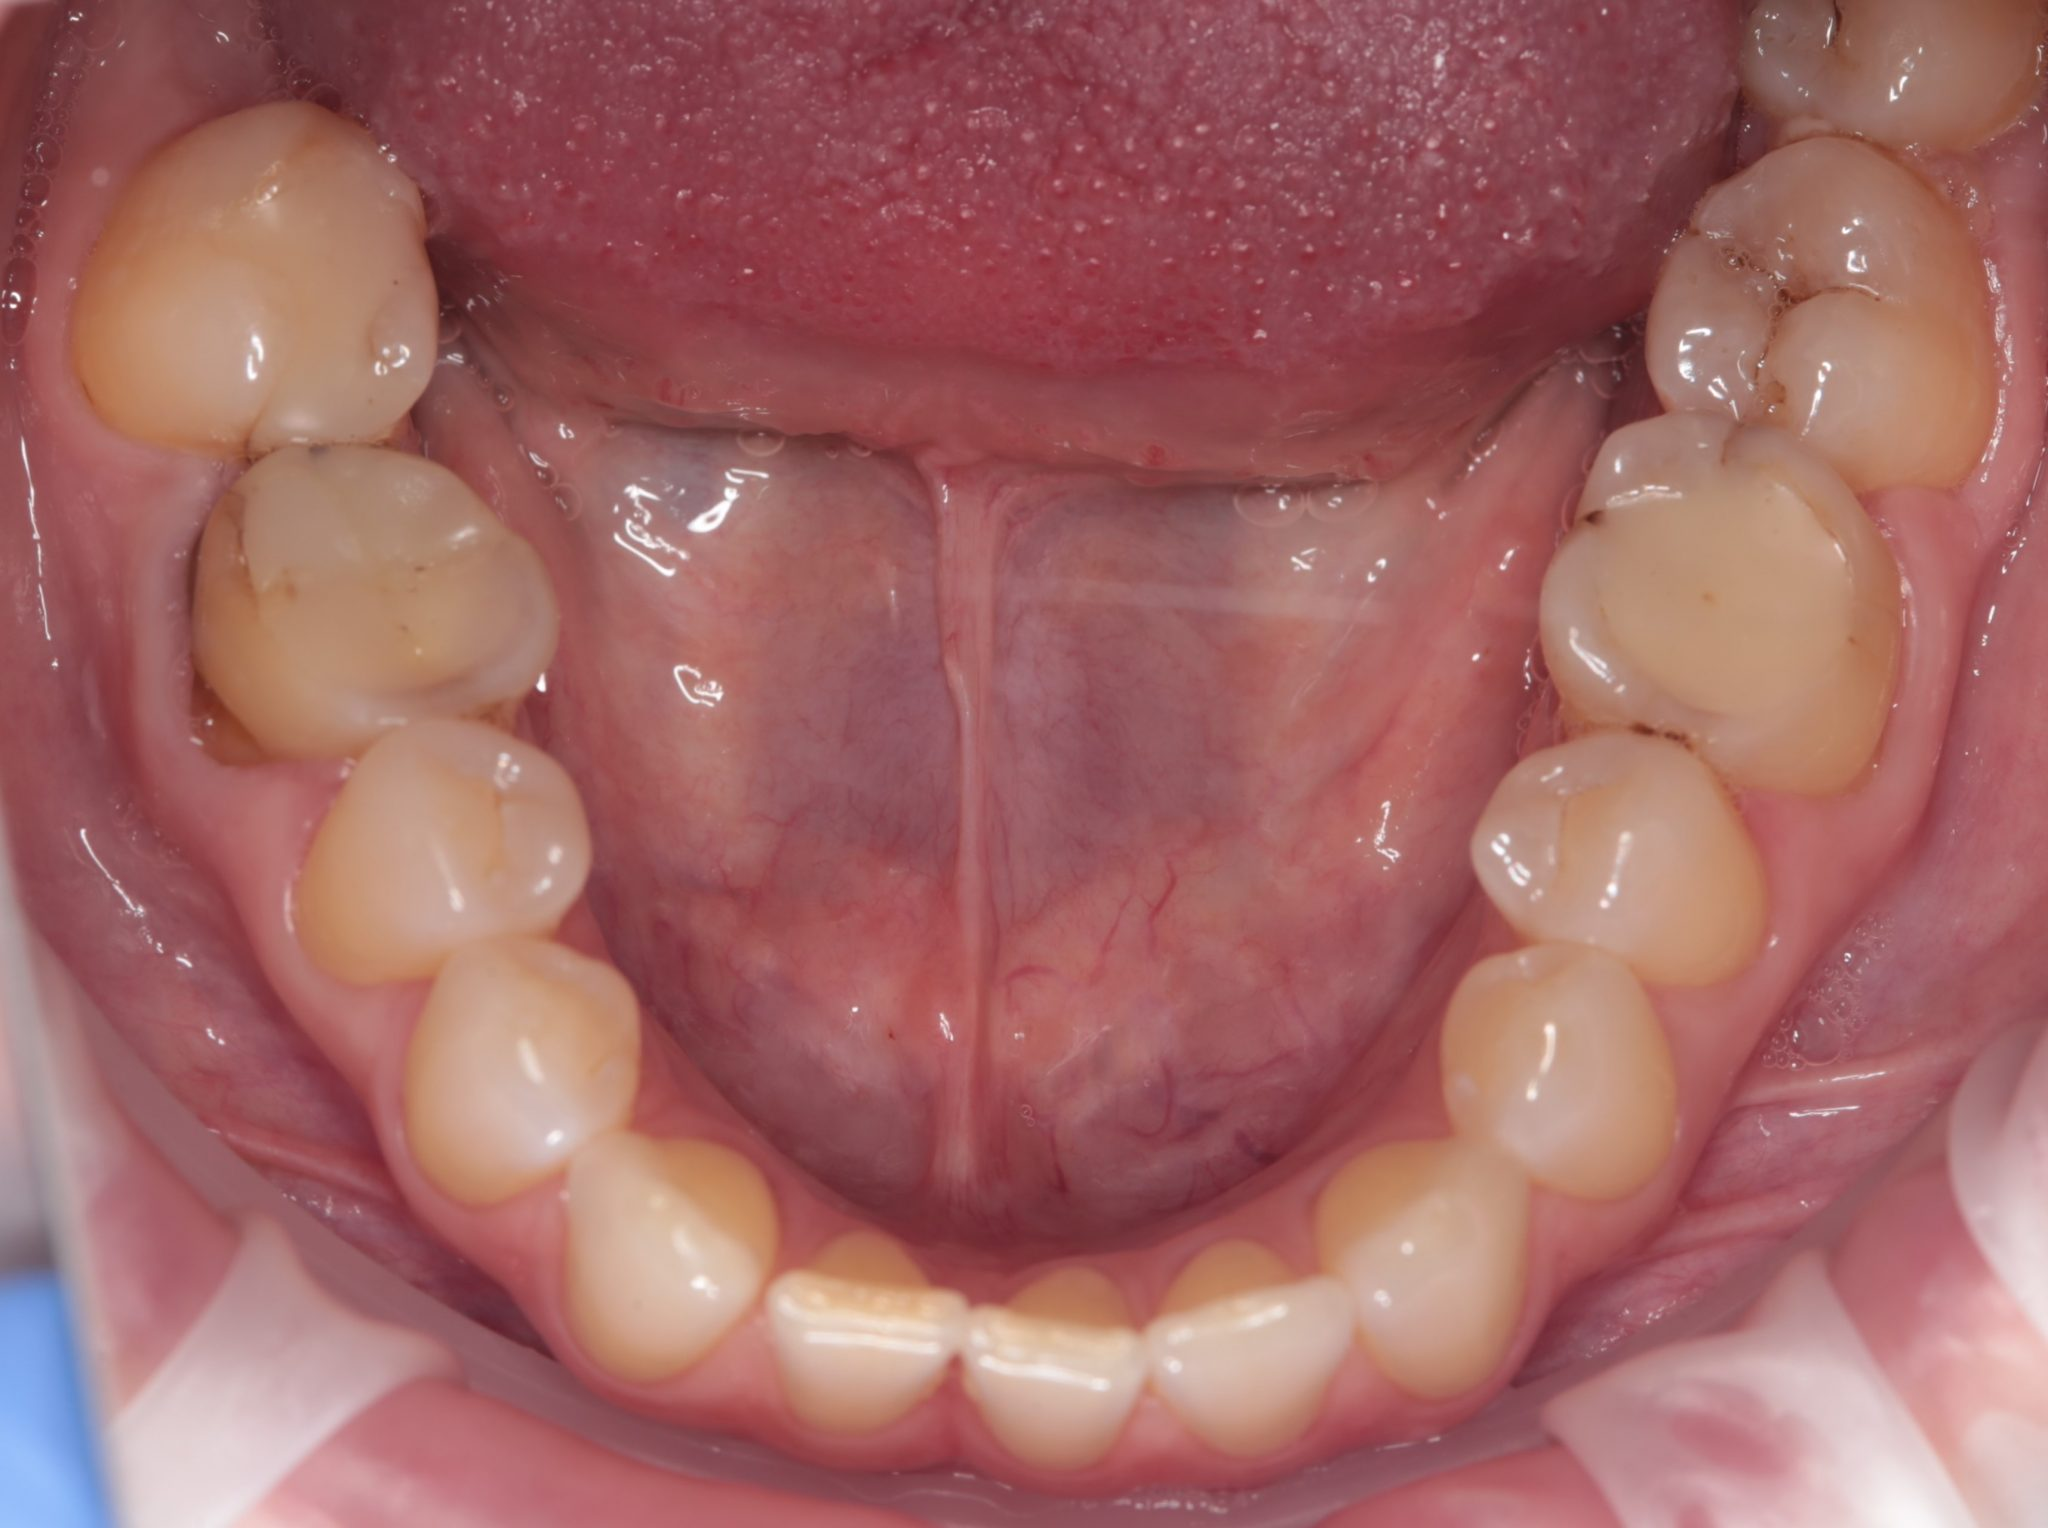LL1BC_healthy: (1436, 937, 1688, 1205)
LL1M_decay: (1536, 421, 1900, 796)
LL2BC_healthy: (1464, 734, 1777, 994)
LL2M_decay: (1648, 136, 1993, 506)
LLCI_healthy: (973, 1249, 1151, 1473)
LLC_healthy: (1303, 1135, 1539, 1400)
LLLI_healthy: (1146, 1233, 1356, 1465)
LR1BC_healthy: (300, 724, 600, 1002)
LR1M_healthy: (71, 90, 461, 465)
LR2BC_decay: (173, 449, 555, 753)
LRCI_healthy: (762, 1237, 971, 1453)
LRC_healthy: (401, 929, 644, 1205)
LRLI_healthy: (555, 1132, 775, 1401)
